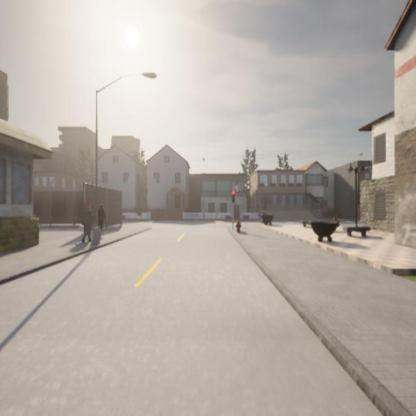person: (81, 202, 94, 244), (98, 206, 106, 232)
traffic_light_red: (232, 190, 235, 202)
